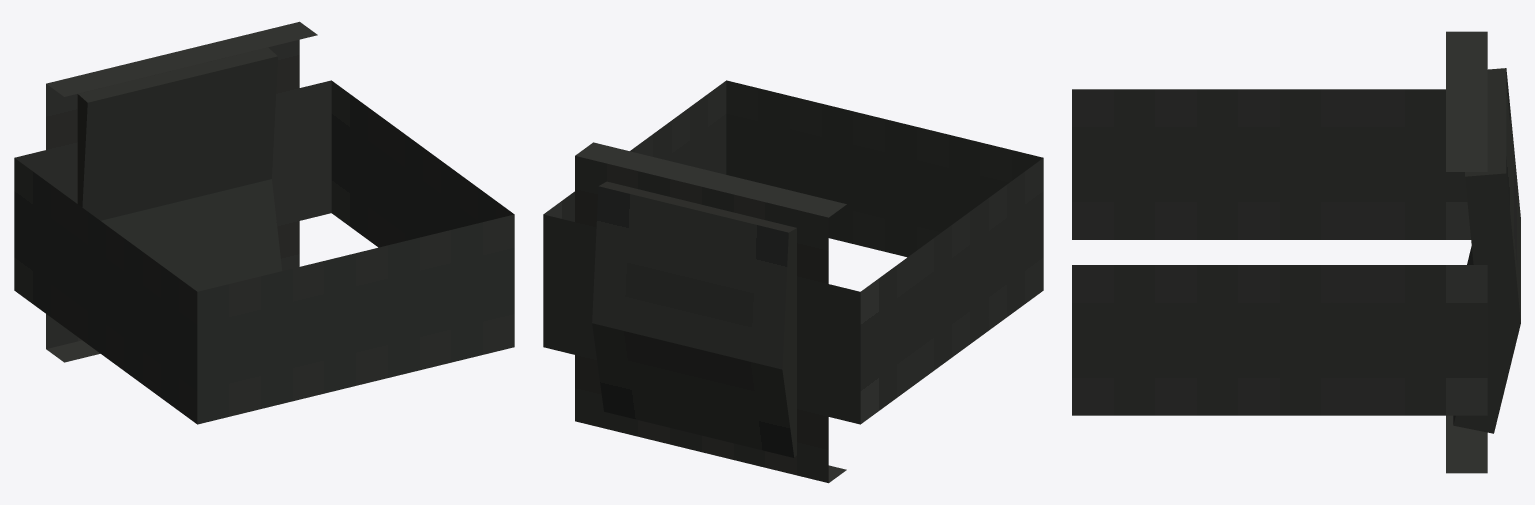
The model's file is concord_p_l.obj.
3 views of the same model, side by side, from view 1: azimuth 30°, elevation 25°; view 2: azimuth 150°, elevation 25°; view 3: azimuth 270°, elevation 25° (orthographic). The views are drawn at different scales.
Parts seen in each view (by area): view 1: mesh; view 2: mesh; view 3: mesh.
Boxes of the visible parts, x1,y1,x2,y2 form: mesh: [14, 21, 514, 424]; mesh: [543, 80, 1043, 483]; mesh: [1072, 31, 1520, 473].
Size of the model in its own units: 0.3125 by 0.25 by 0.3375.
